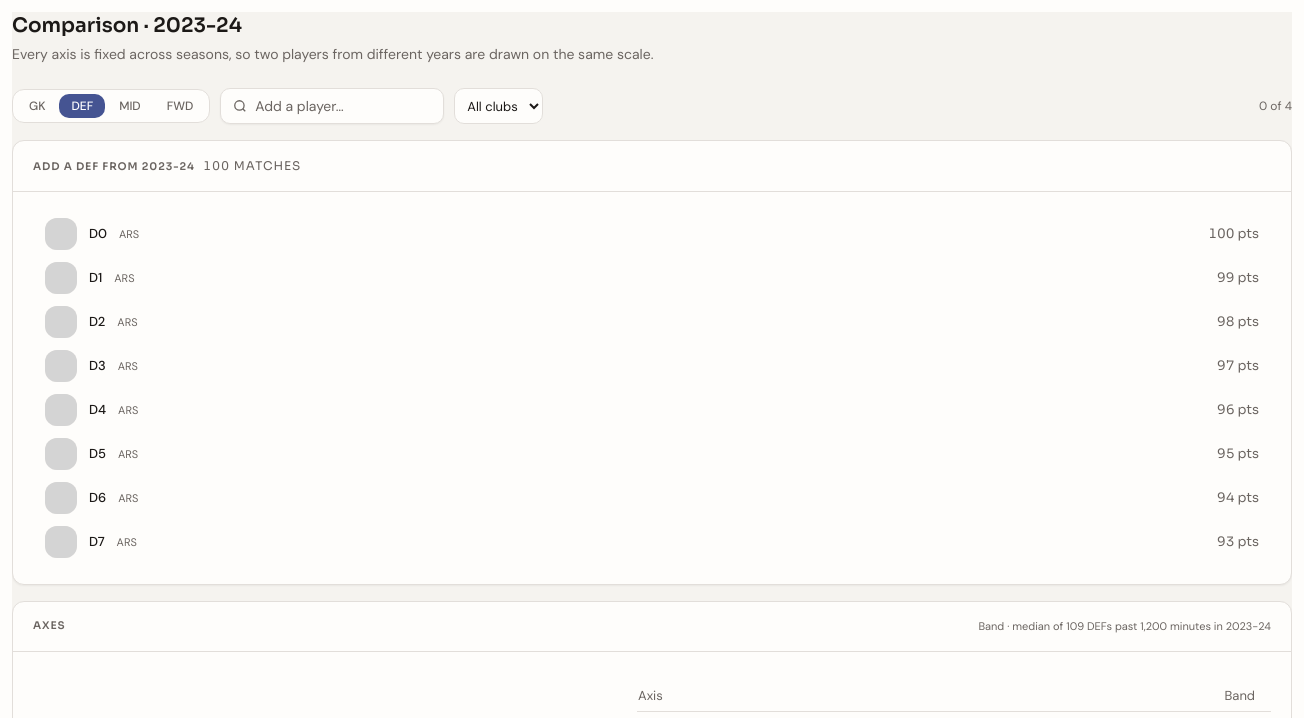
the candidate picker › counts what matches the filters, not the whole roster
Type "D1" into the field with placeholder "Add a player…" at (343, 106), box [255,96,431,116]
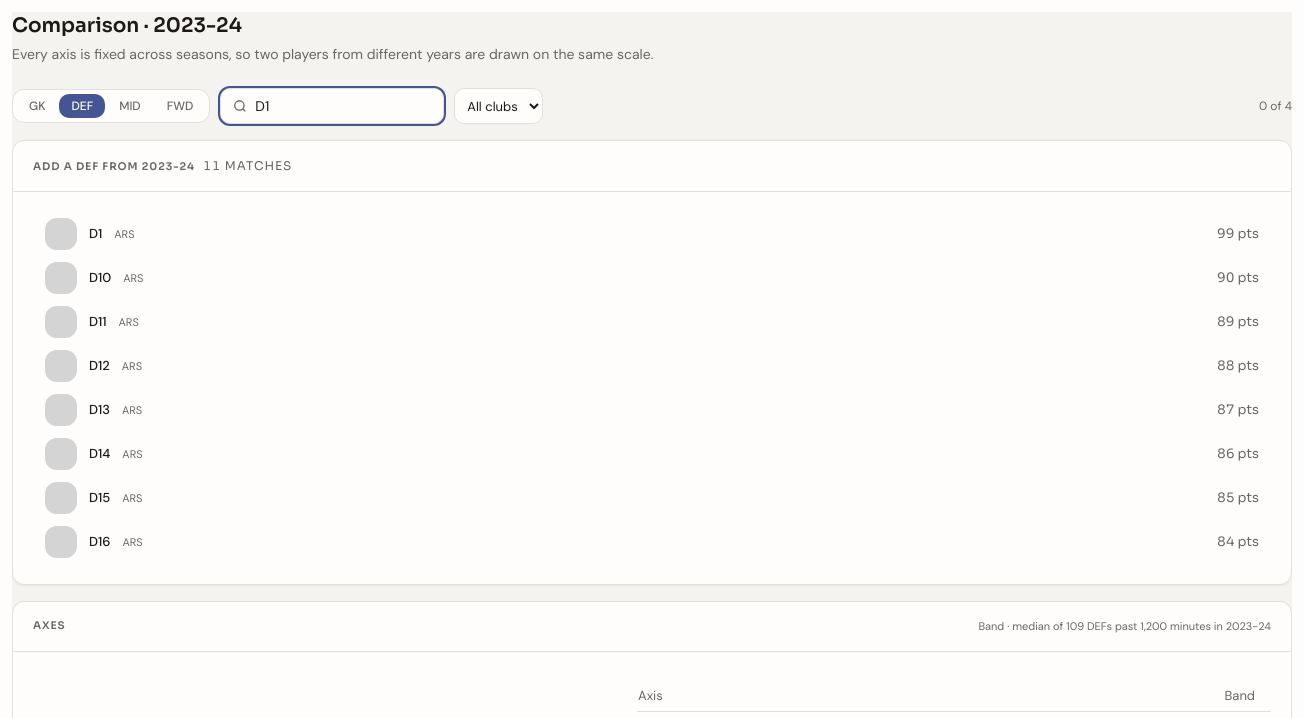
Result: the text "11 matches" is shown at [203,158,292,173]
